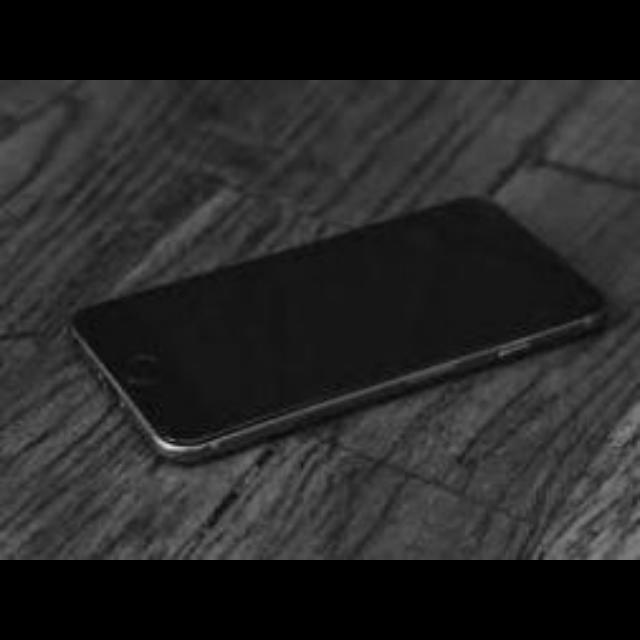fake: (49, 189, 614, 478)
